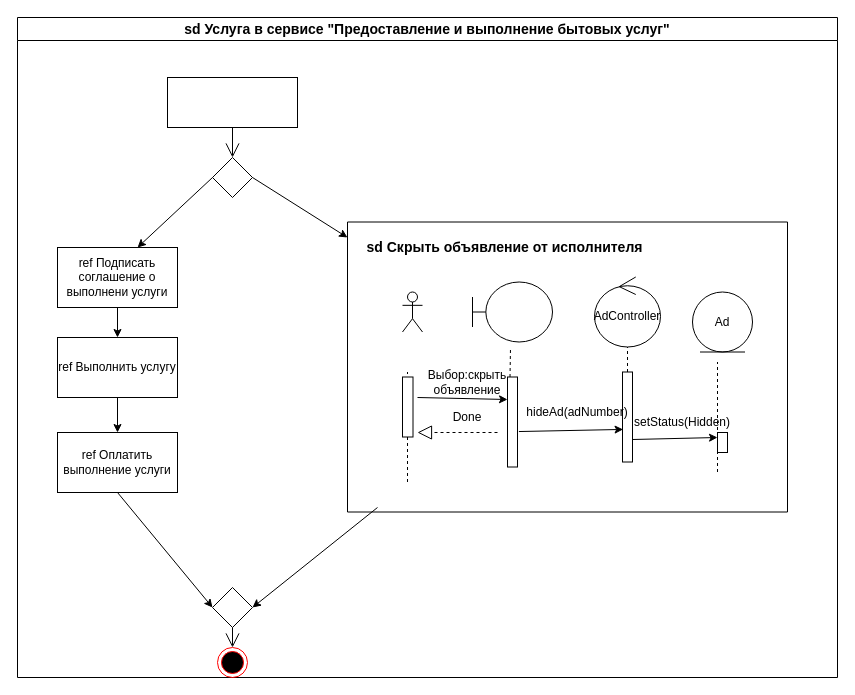
The diagram is 855 pixels wide and 695 high, and some of its shapes have lost their labels. Each missing label, with the centre of its shape:
"ref Откликнуться на объявление" belongs at [232,102].
"Заказчик" belongs at [412,311].
"Страница объявления" belongs at [512,311].
